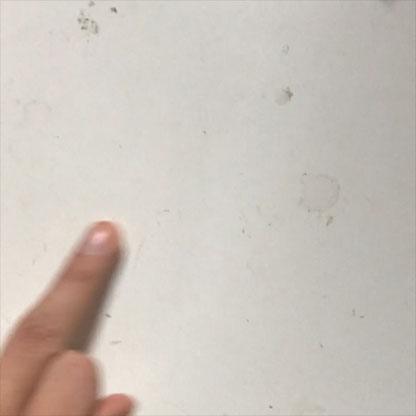fingertip: (69, 213, 137, 275)
